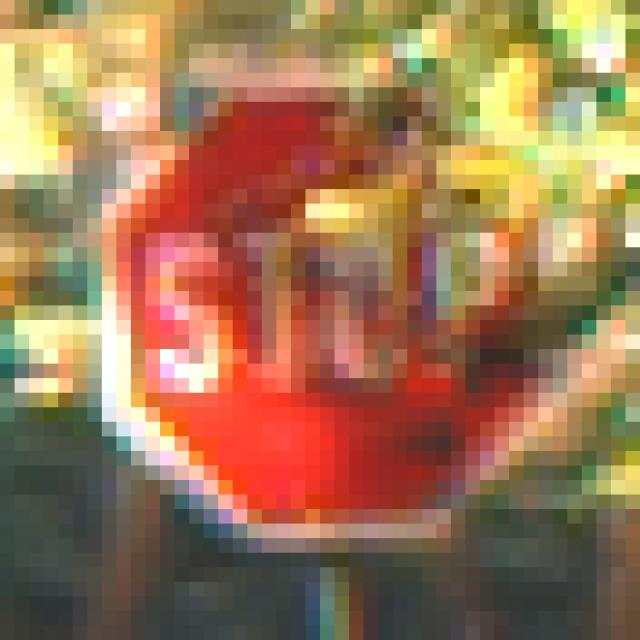STOP: (88, 89, 554, 569)
